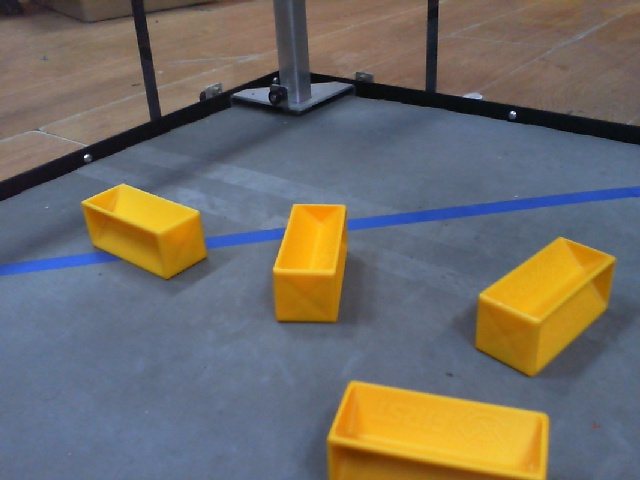YellowSample: (321, 378, 557, 480), (472, 233, 617, 378), (79, 180, 213, 284), (269, 197, 348, 331)
